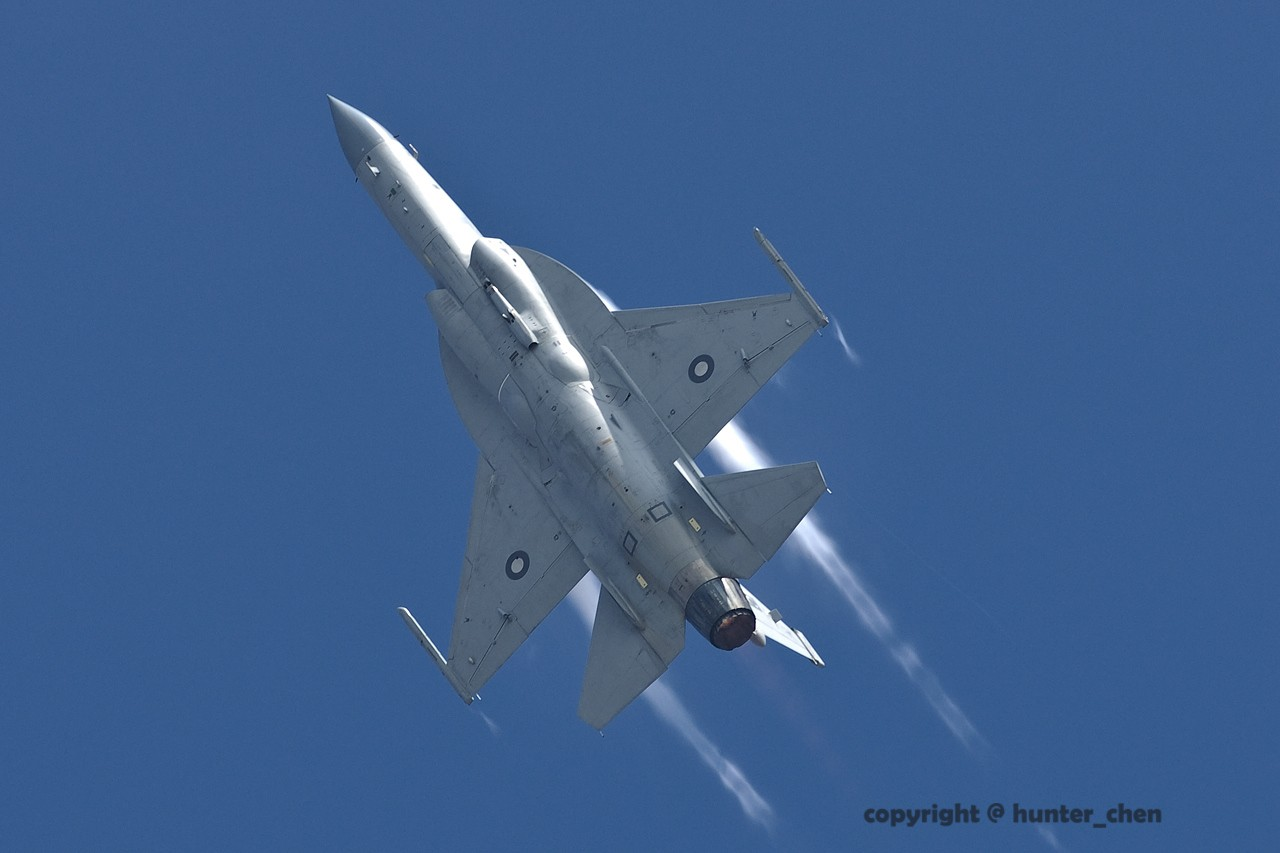airplane: (317, 108, 842, 727)
